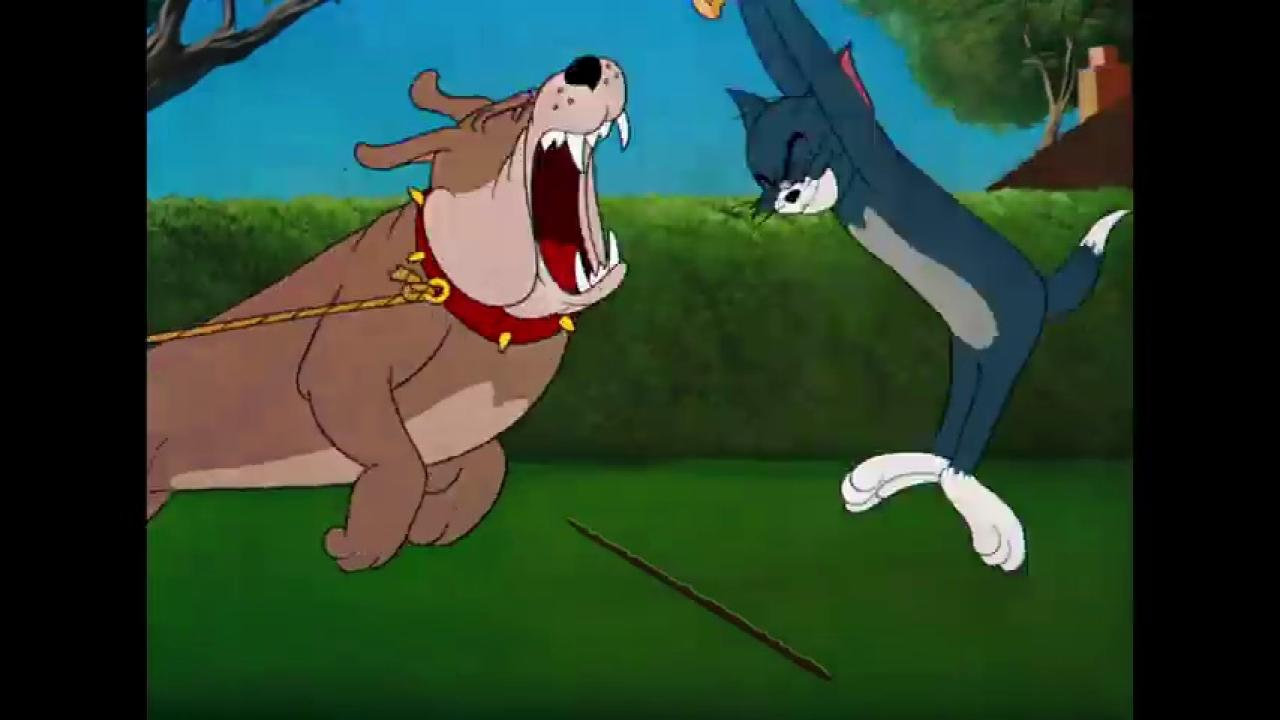Tom: (721, 0, 1133, 576)
